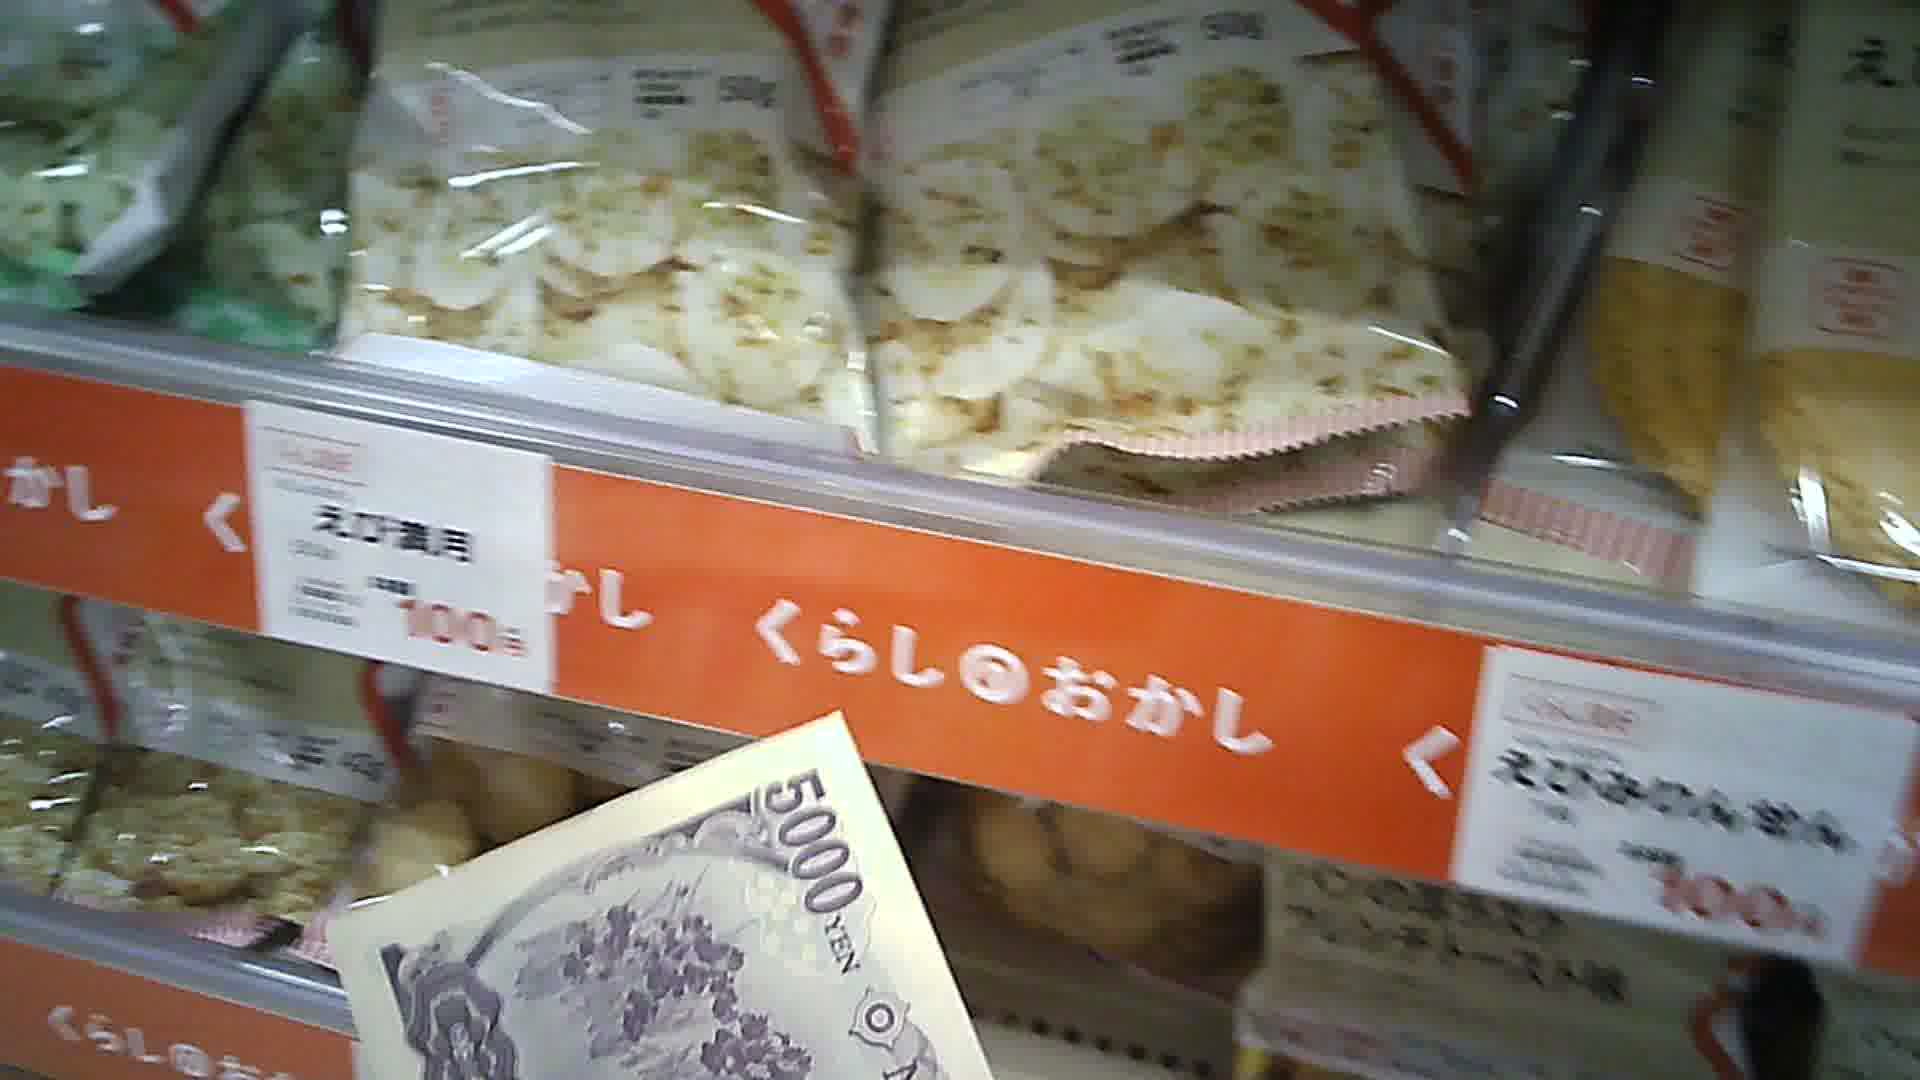5,000 Yen: (328, 705, 964, 1079)
